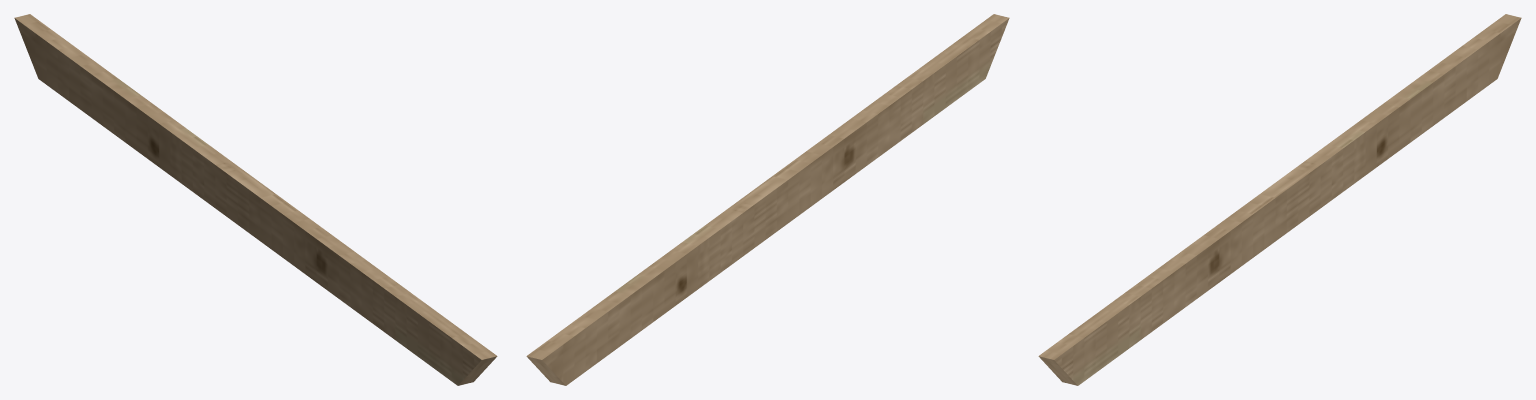
The model's file is Joglo_part_106.fbx.
3 views of the same model, side by side, from view 1: azimuth 30°, elevation 25°; view 2: azimuth 150°, elevation 25°; view 3: azimuth 330°, elevation 25° (orthographic).
Visible parts, largest first — view 1: Mesh193_Wood___Pine_Grained_Horizontal_0.001; view 2: Mesh193_Wood___Pine_Grained_Horizontal_0.001; view 3: Mesh193_Wood___Pine_Grained_Horizontal_0.001.
Part boxes in pixels (x1,y1,x2,y2): Mesh193_Wood___Pine_Grained_Horizontal_0.001: (14,14,497,385); Mesh193_Wood___Pine_Grained_Horizontal_0.001: (526,14,1009,385); Mesh193_Wood___Pine_Grained_Horizontal_0.001: (1038,14,1521,385).
Bounding box in the file's own units: 0.7479 × 1.97 × 38.35.
